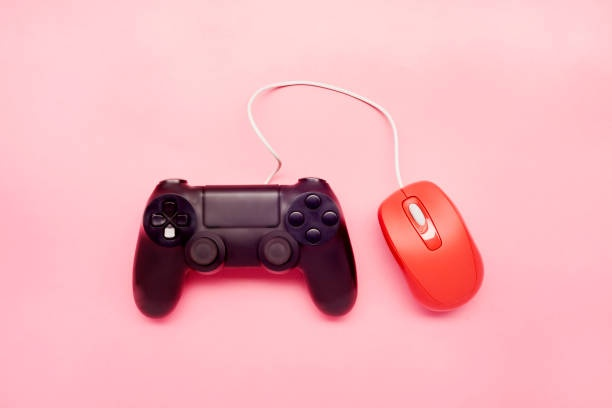mouse: (375, 180, 484, 315)
